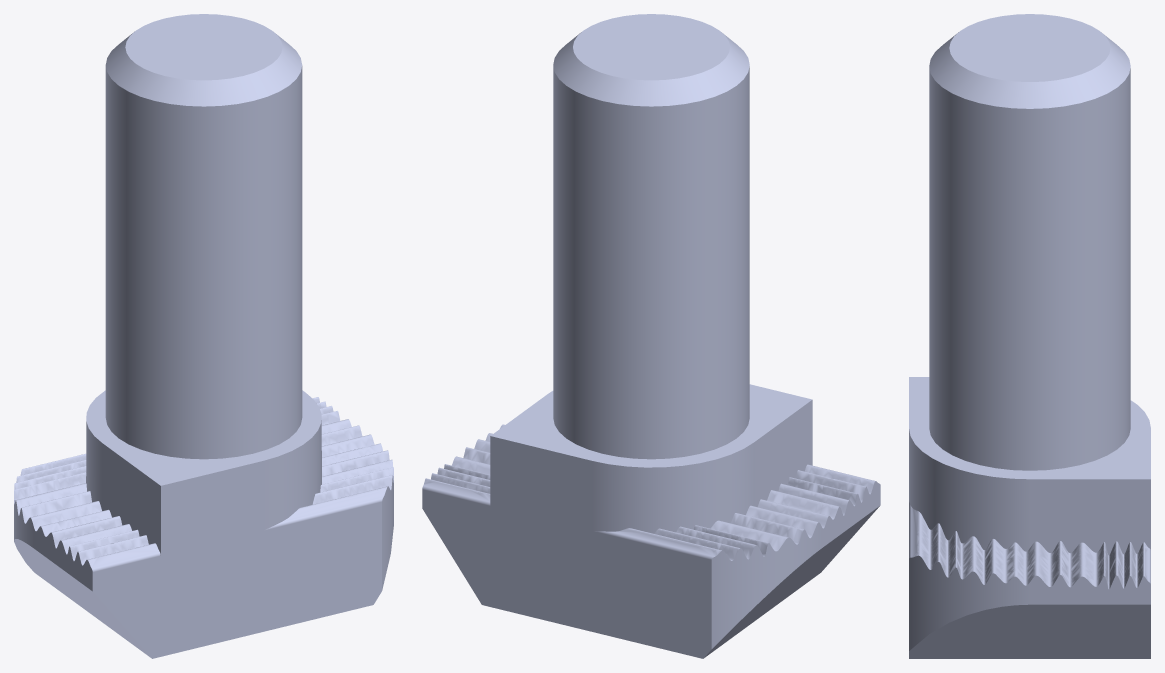
The model's file is TPBT-TPBT-D-M5-L12.glb.
3 renders of one model, left to right at view 1: azimuth 30°, elevation 25°; view 2: azimuth 150°, elevation 25°; view 3: azimuth 270°, elevation 25°, orthographic. The views are drawn at different scales.
Parts seen in each view (by area): view 1: 1739928878103; view 2: 1739928878103; view 3: 1739928878103.
Part boxes in pixels (x1=…): 1739928878103: x1=14, y1=14, x2=393, y2=658; 1739928878103: x1=422, y1=14, x2=880, y2=658; 1739928878103: x1=909, y1=14, x2=1150, y2=658.
Size of the model in its own units: 0.01 by 0.0152 by 0.006.
